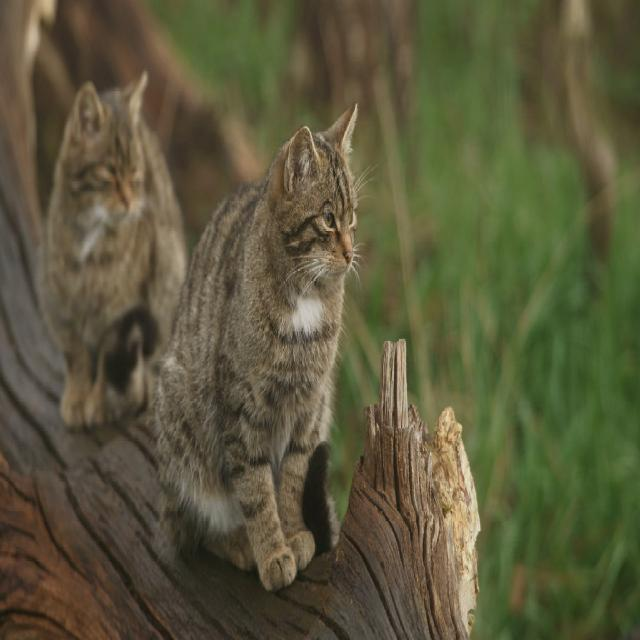Cat: (148, 99, 380, 592), (41, 69, 185, 429)
